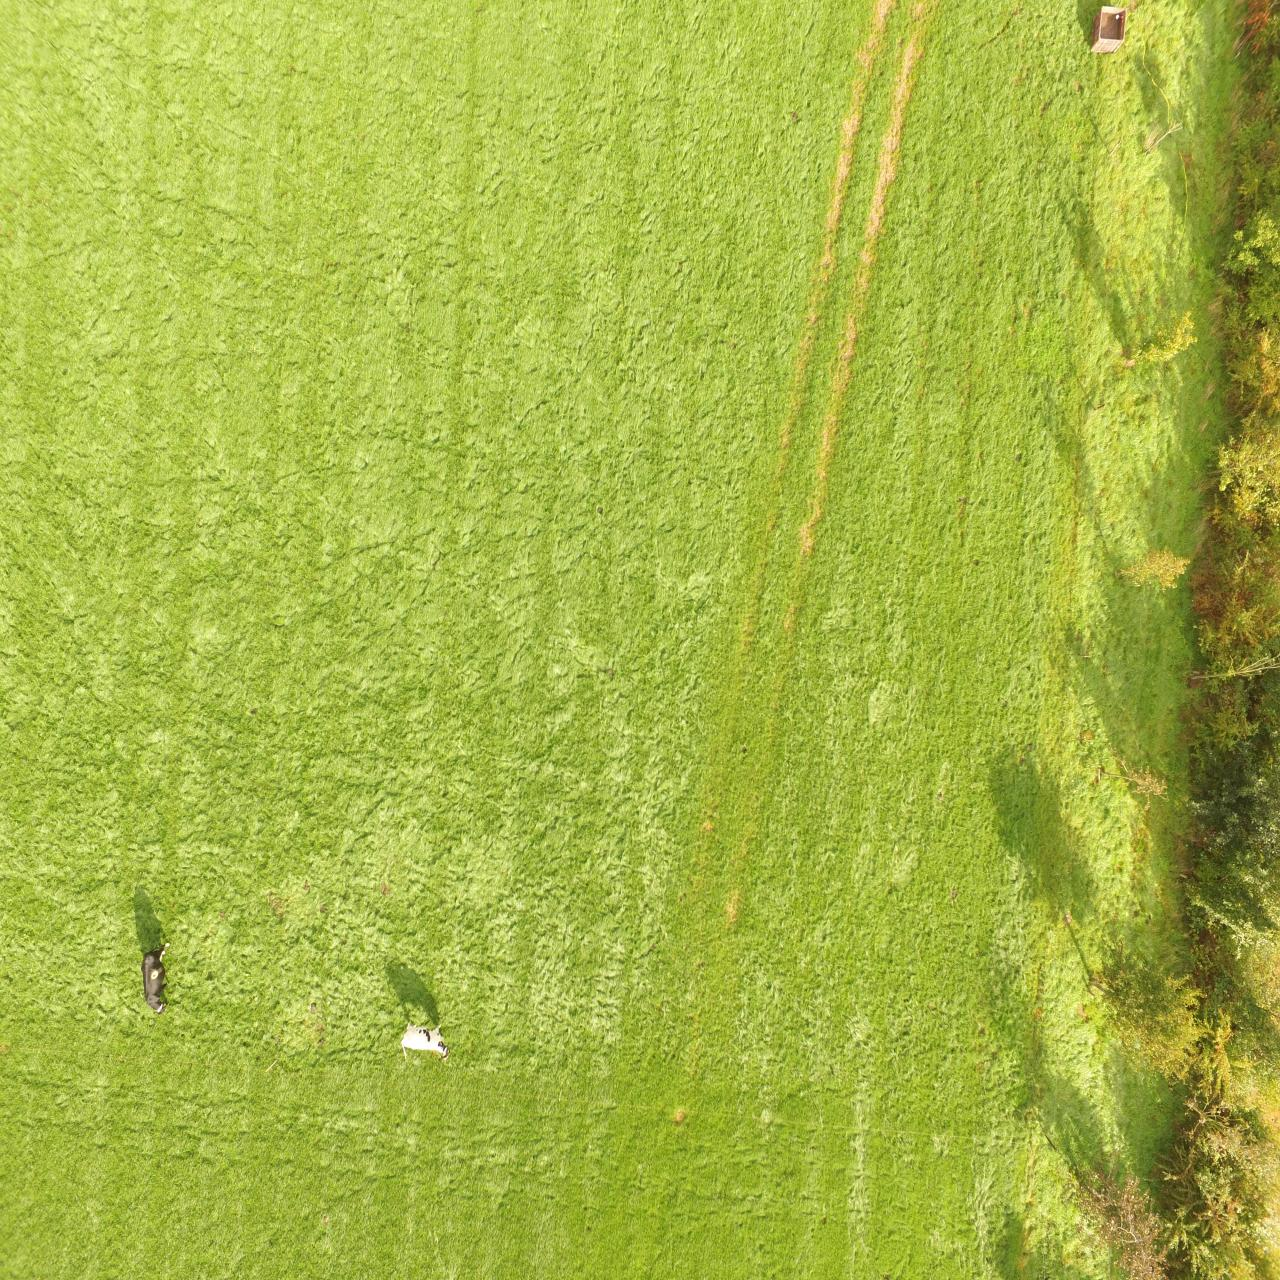cow: (137, 938, 172, 1017), (396, 1016, 451, 1067)
